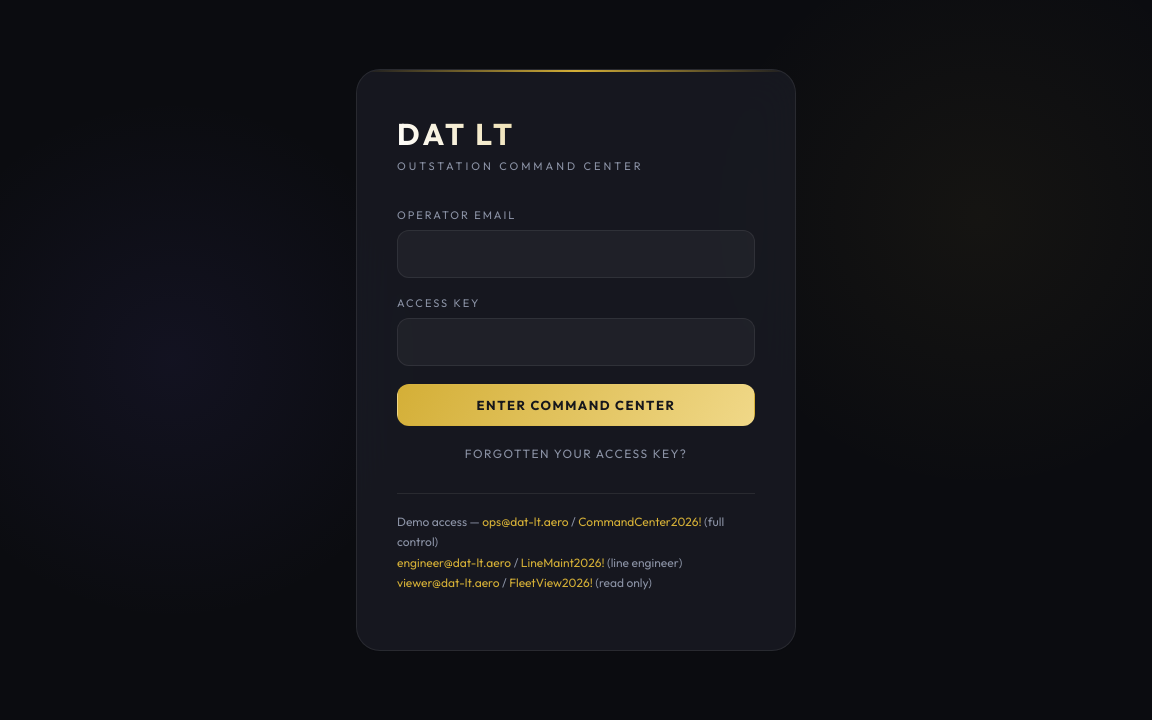
Test: Login page › signing in › shows what the server said about a bad password
Check: the element with test id "auth-ready" is shown, box [356,69,796,651]
Step 1. Type "ops@test.aero" into the field labelled "Operator Email" → (576, 254), box [397,230,755,278]
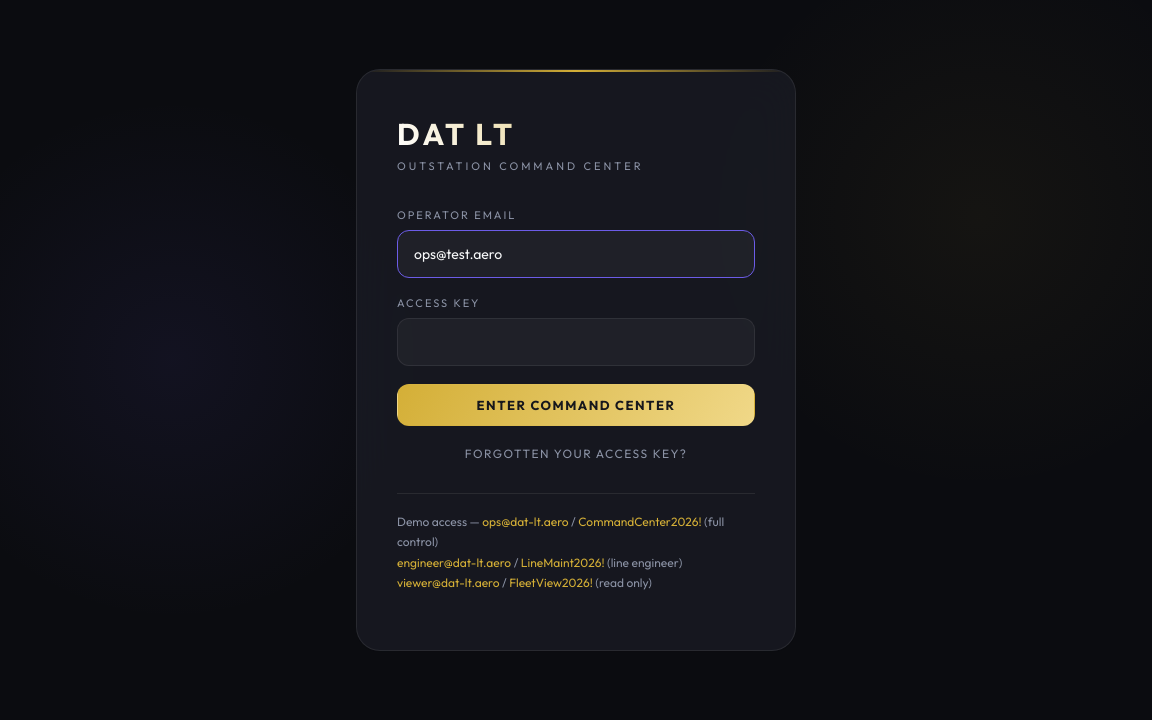
Step 2. Type "wrong" into the password field labelled "Access Key" → (576, 342), box [397,318,755,366]
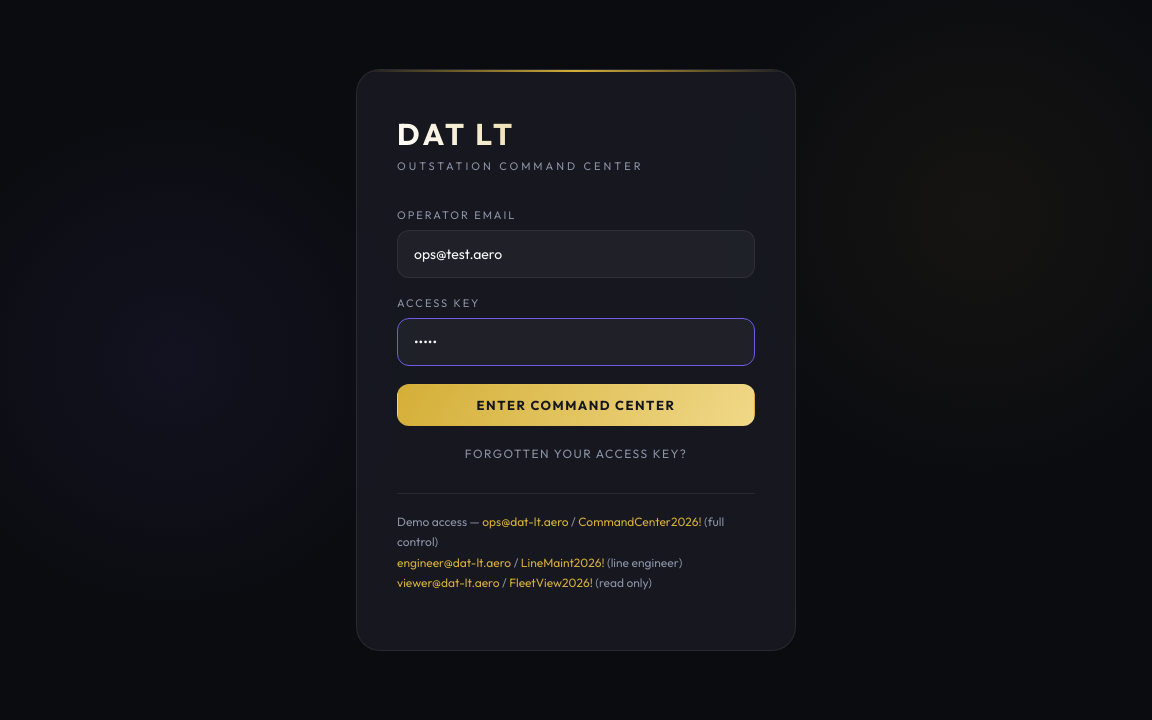
Step 3. Click the button "Enter Command Center" → (576, 405), box [397,384,755,426]
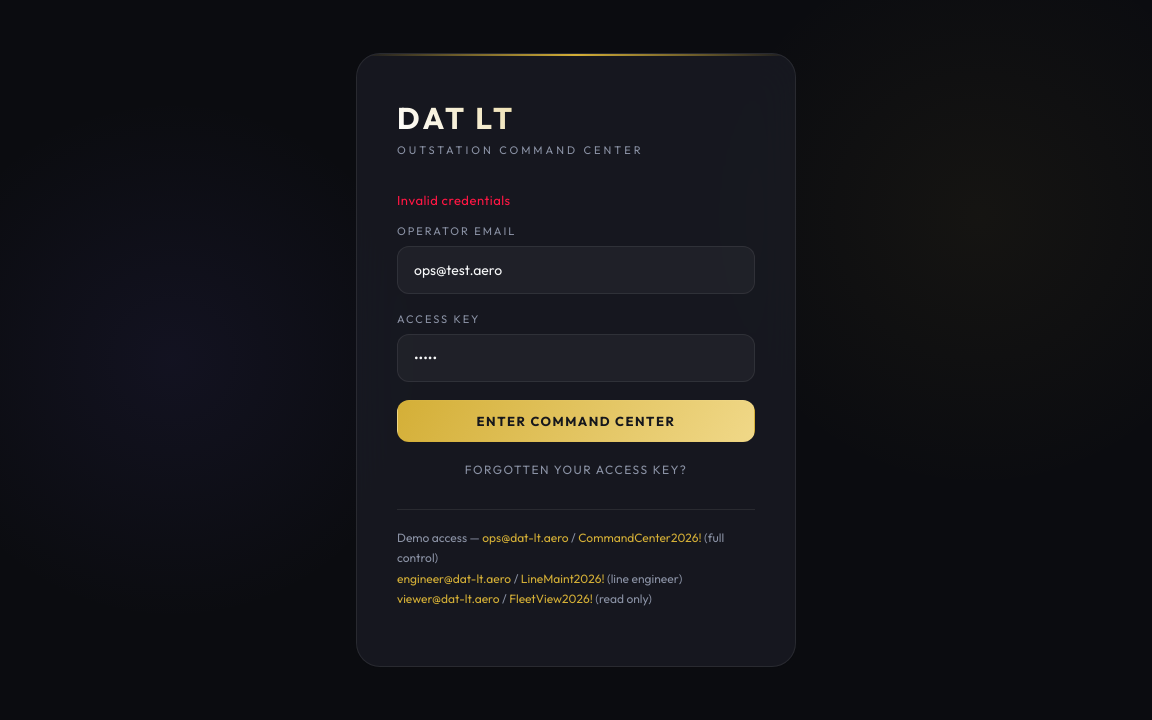
Check: the text "Invalid credentials" is shown, box [397,192,511,208]
